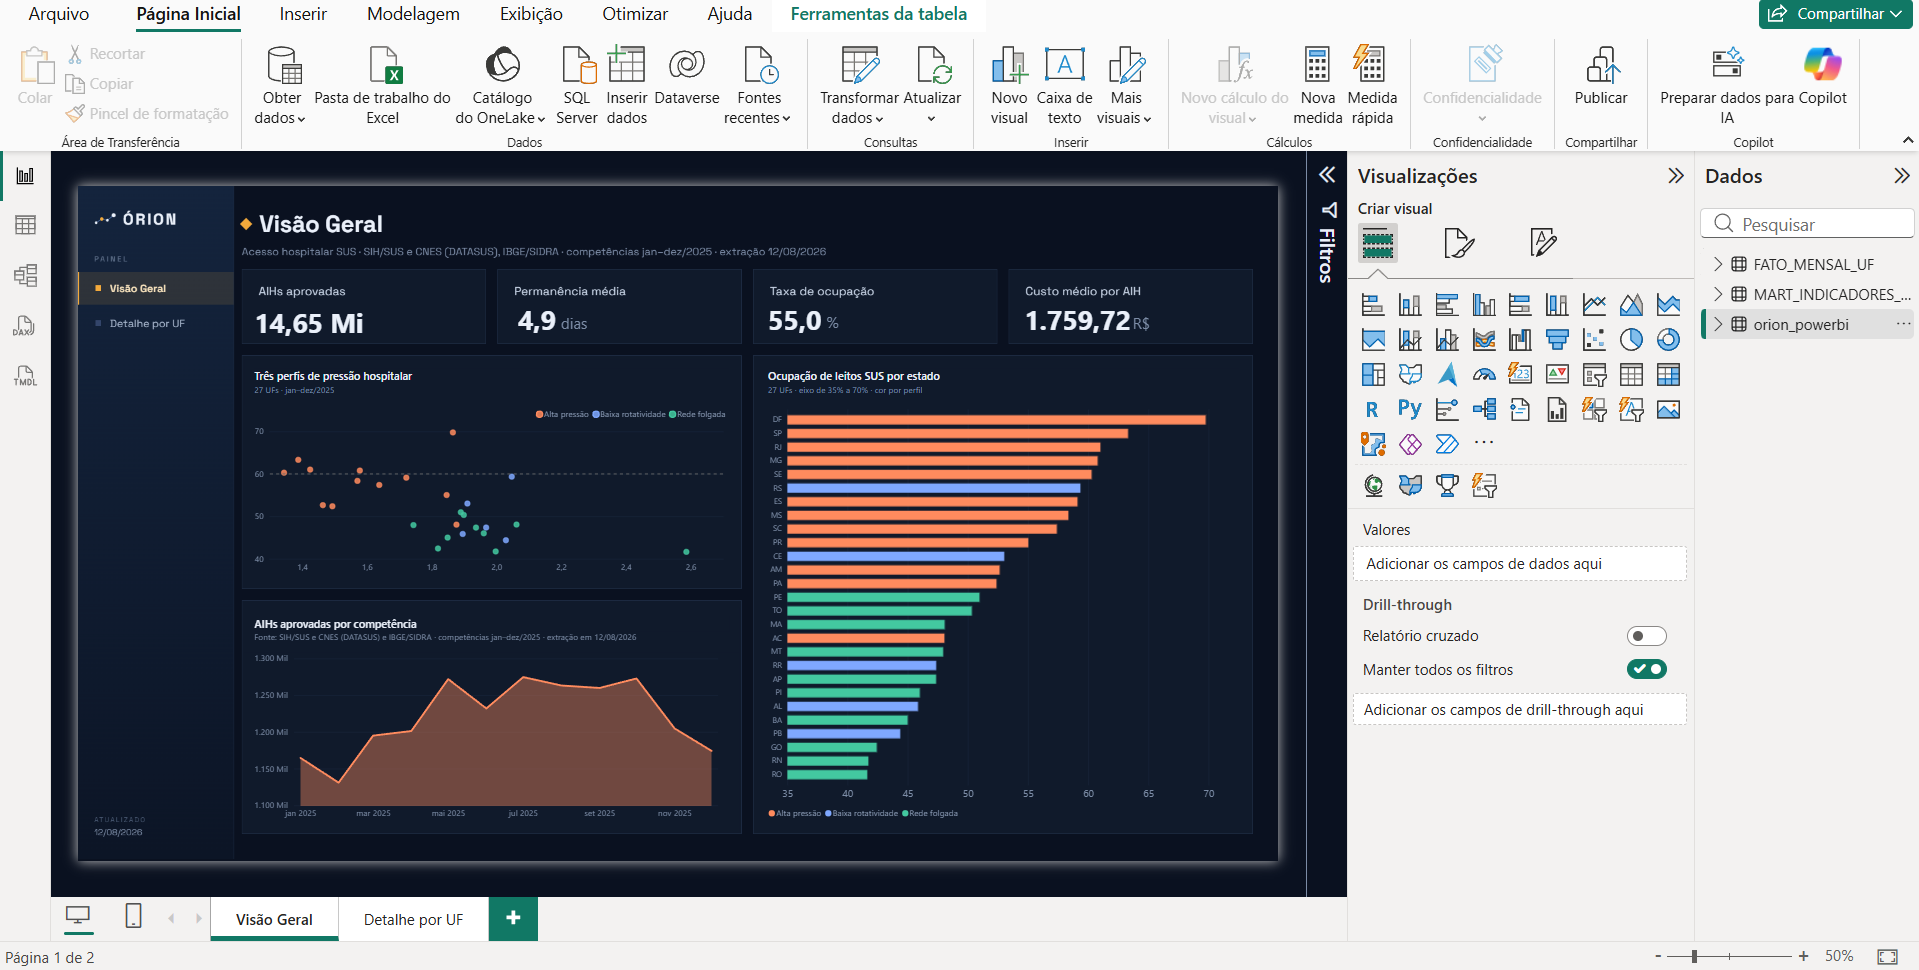

Layout of this report page (visuals, bound fields, positions):
{"tool":"powerbi","page":{"name":"Visão Geral","canvas":[1920,1080],"ordinal":0},"visuals":[{"type":"cardVisual","fields":{"Data":["orion_powerbi.AIHs aprovadas"]},"box":[266,160,384,110],"z":0},{"type":"cardVisual","fields":{"Data":["orion_powerbi.Taxa de ocupação %"]},"box":[1088,158,370,110],"z":1000},{"type":"cardVisual","fields":{"Data":["orion_powerbi.Permanência média"]},"box":[688,158,318,110],"z":2000},{"type":"cardVisual","fields":{"Data":["orion_powerbi.Custo médio por AIH"]},"box":[1498,158,374,110],"z":3000},{"type":"scatterChart","title":"Três perfis de pressão hospitalar","fields":{"Category":["orion_powerbi.uf_sigla"],"Series":["orion_powerbi.cluster_nome"],"X":["Avg(orion_powerbi.leitos_sus_por_mil_hab)"],"Y":["orion_powerbi.Taxa de ocupação %"]},"box":[266.2,278.8,791.2,361.2],"z":4000},{"type":"barChart","title":"Ocupação de leitos SUS por estado","fields":{"Category":["orion_powerbi.uf_sigla"],"Series":["orion_powerbi.cluster_nome"],"Y":["orion_powerbi.Taxa de ocupação %"]},"box":[1087.8,278.9,784.4,755.6],"z":5000},{"type":"lineChart","title":"AIHs aprovadas por competência","fields":{"Category":["orion_powerbi.data_competencia"],"Y":["orion_powerbi.AIHs aprovadas"]},"box":[266.7,673.3,791.7,360],"z":6000},{"type":"textbox","box":[1180,192,62.1,53.6],"z":10000},{"type":"textbox","box":[764,194,62.1,53.6],"z":11000},{"type":"textbox","box":[1670,194,62.1,53.6],"z":12000}]}

Visuals, with their boxes on the page's 1920x1080 design canvas (x1, y1, x2, y2). These are canvas units, not pixel positions in the 1919x970 screenshot, which may show the page scaled, cropped or inside an application window:
cardVisual - orion_powerbi.AIHs aprovadas: x1=266 y1=160 x2=650 y2=270
cardVisual - orion_powerbi.Taxa de ocupação %: x1=1088 y1=158 x2=1458 y2=268
cardVisual - orion_powerbi.Permanência média: x1=688 y1=158 x2=1006 y2=268
cardVisual - orion_powerbi.Custo médio por AIH: x1=1498 y1=158 x2=1872 y2=268
"Três perfis de pressão hospitalar" scatterChart: x1=266 y1=279 x2=1057 y2=640
"Ocupação de leitos SUS por estado" barChart: x1=1088 y1=279 x2=1872 y2=1034
"AIHs aprovadas por competência" lineChart: x1=267 y1=673 x2=1058 y2=1033
textbox: x1=1180 y1=192 x2=1242 y2=246
textbox: x1=764 y1=194 x2=826 y2=248
textbox: x1=1670 y1=194 x2=1732 y2=248
